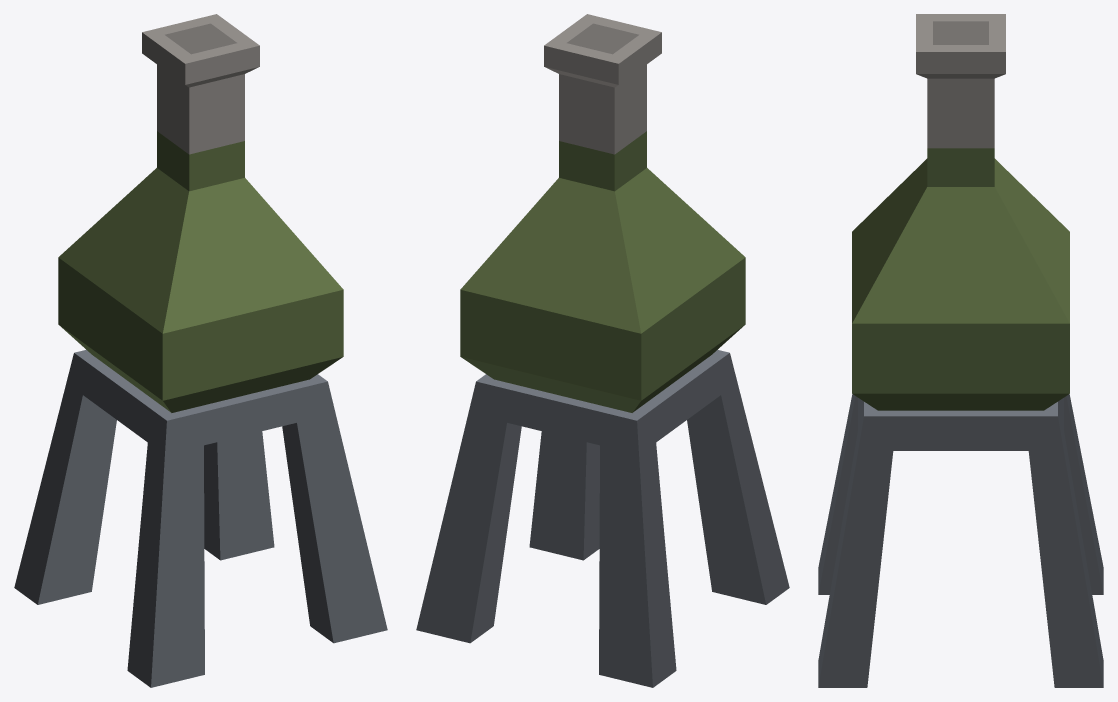
The model's file is SD_Prop_PotionBrew_03.fbx.
3 views of the same model, side by side, from view 1: azimuth 30°, elevation 25°; view 2: azimuth 150°, elevation 25°; view 3: azimuth 270°, elevation 25° (orthographic). The views are drawn at different scales.
Parts seen in each view (by area): view 1: SD_Prop_PotionBrew_03; view 2: SD_Prop_PotionBrew_03; view 3: SD_Prop_PotionBrew_03.
Part boxes in pixels (x1,y1,x2,y2): SD_Prop_PotionBrew_03: [14, 14, 387, 687]; SD_Prop_PotionBrew_03: [416, 14, 789, 687]; SD_Prop_PotionBrew_03: [818, 14, 1103, 687].
Size of the model in its own units: 0.5971 by 1.37 by 0.5971.
